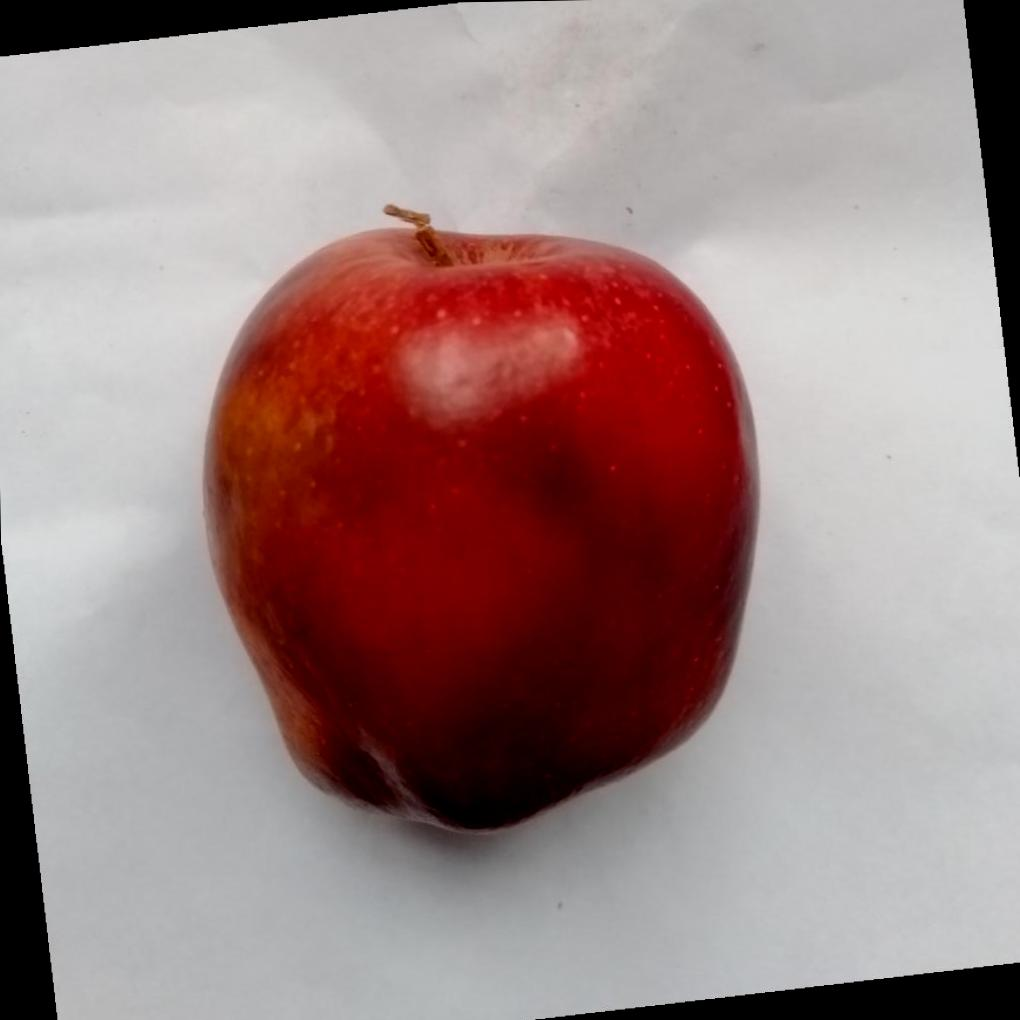FreshOrange: (203, 211, 763, 833)
